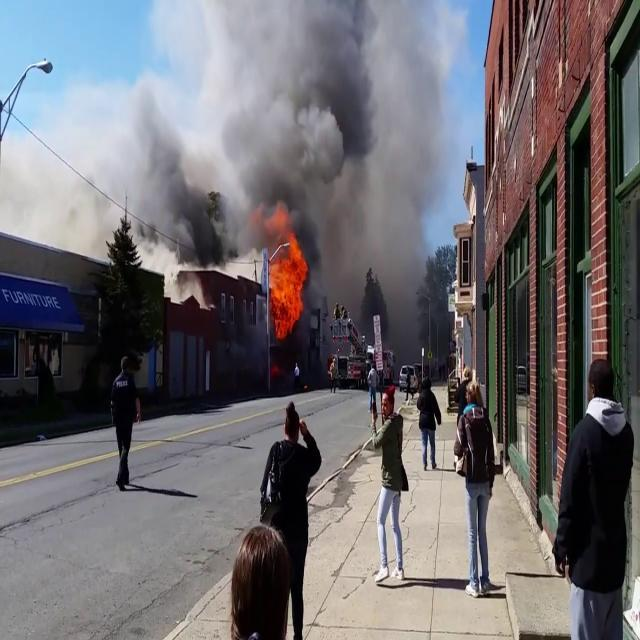Fire: (266, 226, 311, 339)
Smoke: (125, 7, 441, 268), (217, 0, 446, 286)
